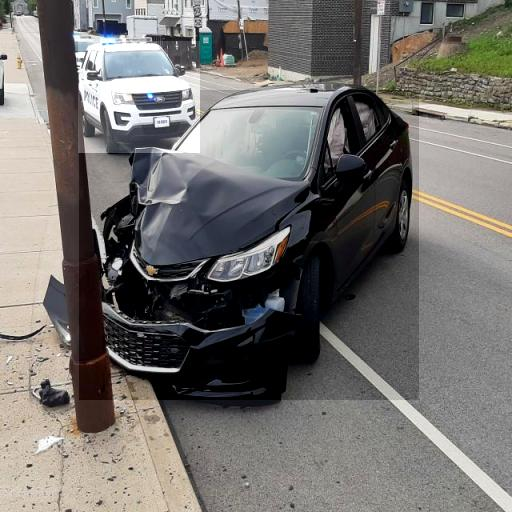小汽车: (78, 41, 200, 153)
小汽车撞物: (79, 90, 419, 400)
